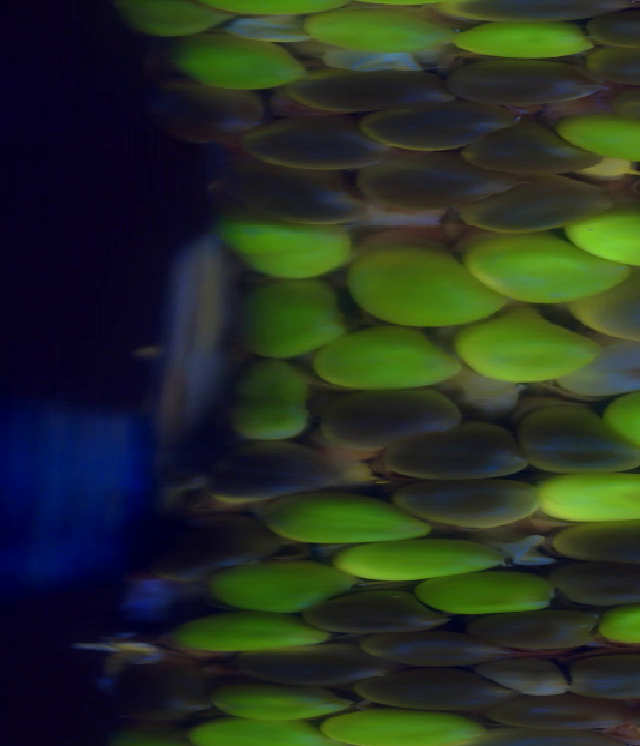fluorescent: (346, 240, 492, 324), (456, 306, 601, 383), (263, 488, 433, 547), (222, 277, 349, 354), (212, 217, 356, 280), (308, 322, 453, 384), (204, 561, 361, 611), (474, 247, 611, 304), (326, 539, 516, 578), (216, 361, 311, 435), (171, 613, 333, 655), (322, 706, 489, 746), (312, 7, 449, 54), (408, 574, 564, 614), (457, 22, 601, 63), (535, 474, 640, 522), (211, 684, 361, 717), (181, 50, 308, 87), (182, 713, 312, 746), (571, 213, 640, 273), (134, 1, 227, 43), (565, 118, 640, 158), (607, 387, 640, 472), (592, 600, 640, 641)
nonfluorescent: (465, 170, 622, 232), (513, 400, 640, 474), (383, 424, 533, 484), (428, 52, 599, 104), (359, 155, 480, 217), (467, 118, 600, 174), (251, 120, 383, 176), (392, 484, 546, 531), (210, 443, 337, 499), (357, 669, 511, 715), (320, 395, 458, 444), (110, 650, 203, 722), (157, 80, 270, 137), (144, 513, 266, 565), (239, 172, 357, 224), (291, 76, 435, 115), (491, 696, 639, 733), (366, 110, 492, 151), (317, 594, 436, 636), (465, 614, 598, 651), (235, 650, 374, 684), (363, 629, 503, 662), (592, 273, 640, 343), (550, 524, 640, 561), (551, 566, 640, 603), (572, 343, 640, 389), (567, 654, 640, 694), (495, 663, 572, 695), (576, 13, 640, 51), (577, 50, 640, 88), (609, 89, 640, 135)
